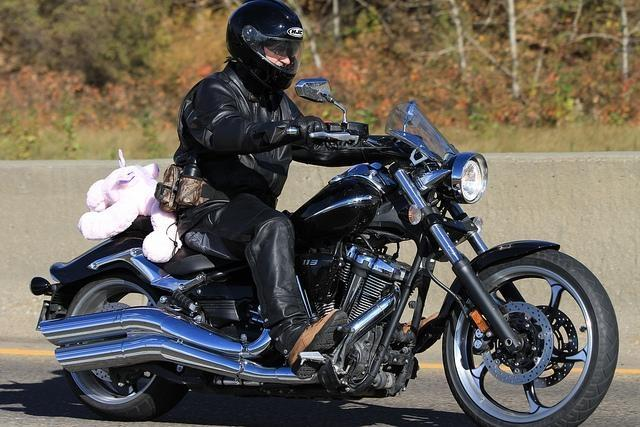motorcycle: (31, 78, 621, 427)
